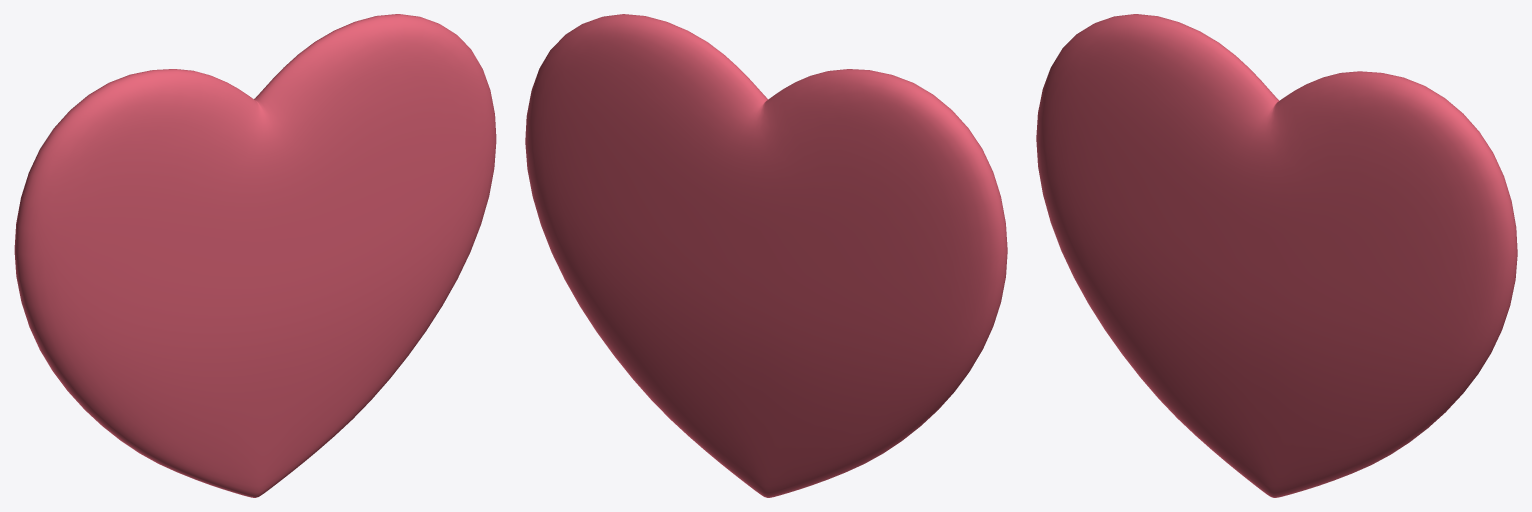
File: stamp.fbx
The picture shows the model from 3 angles, left to right: view 1: azimuth 30°, elevation 25°; view 2: azimuth 150°, elevation 25°; view 3: azimuth 330°, elevation 25°; orthographic projection.
Parts seen in each view (by area): view 1: Object_4; view 2: Object_4; view 3: Object_4.
Boxes of the visible parts, <box> form: Object_4: <box>14,14,496,497</box>; Object_4: <box>525,14,1007,497</box>; Object_4: <box>1036,14,1517,497</box>.
Size of the model in its own units: 0.5355 by 0.4817 by 0.0642.
